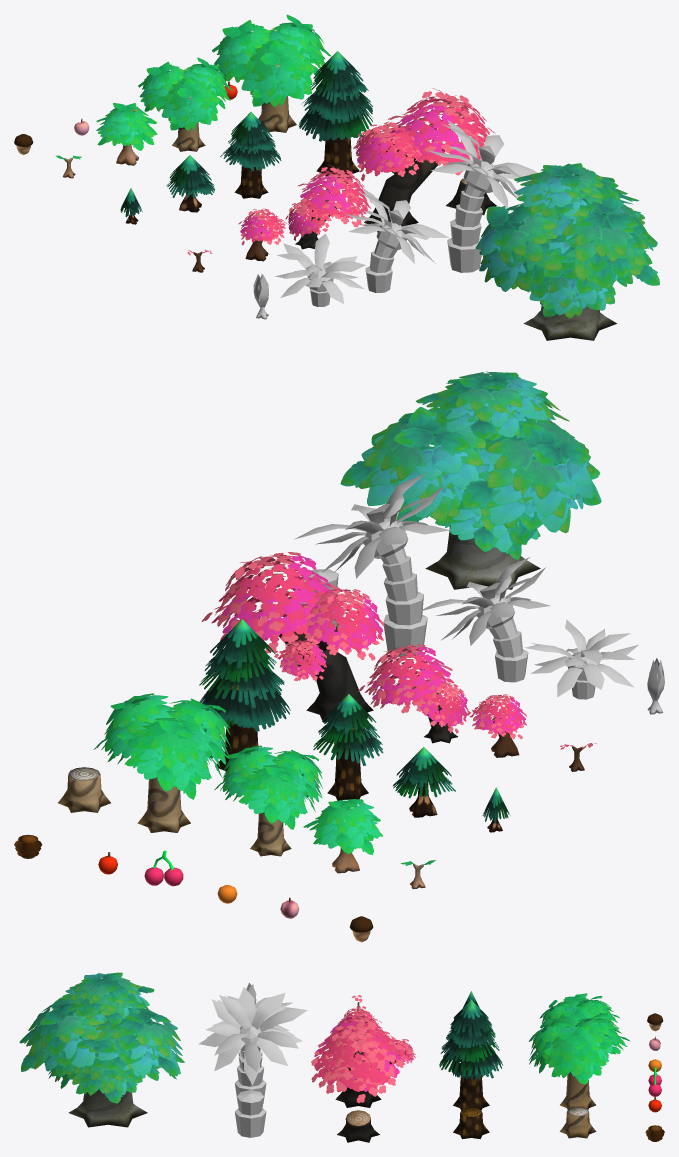
File: trees.fbx
3 views of the same model, one above another, from view 1: azimuth 30°, elevation 25°; view 2: azimuth 150°, elevation 25°; view 3: azimuth 270°, elevation 25° (orthographic). The views are drawn at different scales.
Parts seen in each view (by area): view 1: Full Grow.004, MidGrow.005, Full Grow.001, Cylinder.002, Full Grow.003, MidGrow.001, MidGrow.004, Cylinder.001, Cylinder, MidGrow.003, sprout.001, sprout.003 (+1 smaller); view 2: Full Grow.004, MidGrow.005, Full Grow.001, Cylinder.002, Full Grow.003, MidGrow.001, MidGrow.004, Cylinder.001, MidGrow.003, Cylinder, sprout.001, sprout.003 (+2 smaller); view 3: Full Grow.004, MidGrow.005, Cylinder.002, Full Grow.001, Full Grow.003, MidGrow.001, Cylinder.003, MidGrow.006, Cut, Cut.001, CHERRY.
Boxes of the visible parts, x1=… form: Full Grow.004: x1=475, y1=163, x2=659, y2=340; MidGrow.005: x1=353, y1=88, x2=495, y2=232; Full Grow.001: x1=212, y1=14, x2=331, y2=132; Cylinder.002: x1=426, y1=120, x2=537, y2=272; Full Grow.003: x1=298, y1=51, x2=372, y2=178; MidGrow.001: x1=138, y1=57, x2=232, y2=151; MidGrow.004: x1=285, y1=165, x2=371, y2=249; Cylinder.001: x1=345, y1=188, x2=449, y2=292; Cylinder: x1=275, y1=233, x2=366, y2=306; MidGrow.003: x1=220, y1=112, x2=281, y2=198; sprout.001: x1=96, y1=103, x2=157, y2=165; sprout.003: x1=166, y1=155, x2=214, y2=212; Full Grow.004: x1=340, y1=371, x2=601, y2=589; MidGrow.005: x1=201, y1=552, x2=384, y2=722; Full Grow.001: x1=93, y1=693, x2=230, y2=832; Cylinder.002: x1=294, y1=474, x2=450, y2=656; Full Grow.003: x1=199, y1=619, x2=290, y2=771; MidGrow.001: x1=214, y1=745, x2=322, y2=856; MidGrow.004: x1=358, y1=644, x2=468, y2=743; Cylinder.001: x1=418, y1=557, x2=550, y2=682; MidGrow.003: x1=313, y1=694, x2=383, y2=800; Cylinder: x1=524, y1=619, x2=638, y2=699; sprout.001: x1=303, y1=799, x2=382, y2=873; sprout.003: x1=393, y1=747, x2=455, y2=817; Full Grow.004: x1=19, y1=972, x2=184, y2=1127; MidGrow.005: x1=311, y1=1011, x2=417, y2=1107; Cylinder.002: x1=199, y1=987, x2=307, y2=1103; Full Grow.001: x1=528, y1=1013, x2=630, y2=1109; Full Grow.003: x1=439, y1=1003, x2=503, y2=1110; MidGrow.001: x1=540, y1=996, x2=620, y2=1028; Cylinder.003: x1=235, y1=1090, x2=266, y2=1137; MidGrow.006: x1=337, y1=1110, x2=379, y2=1142; Cut: x1=559, y1=1107, x2=596, y2=1138; Cut.001: x1=453, y1=1107, x2=489, y2=1139; CHERRY: x1=648, y1=1067, x2=661, y2=1096.
Bounding box in the file's own units: 2732 × 1355 × 5551.
